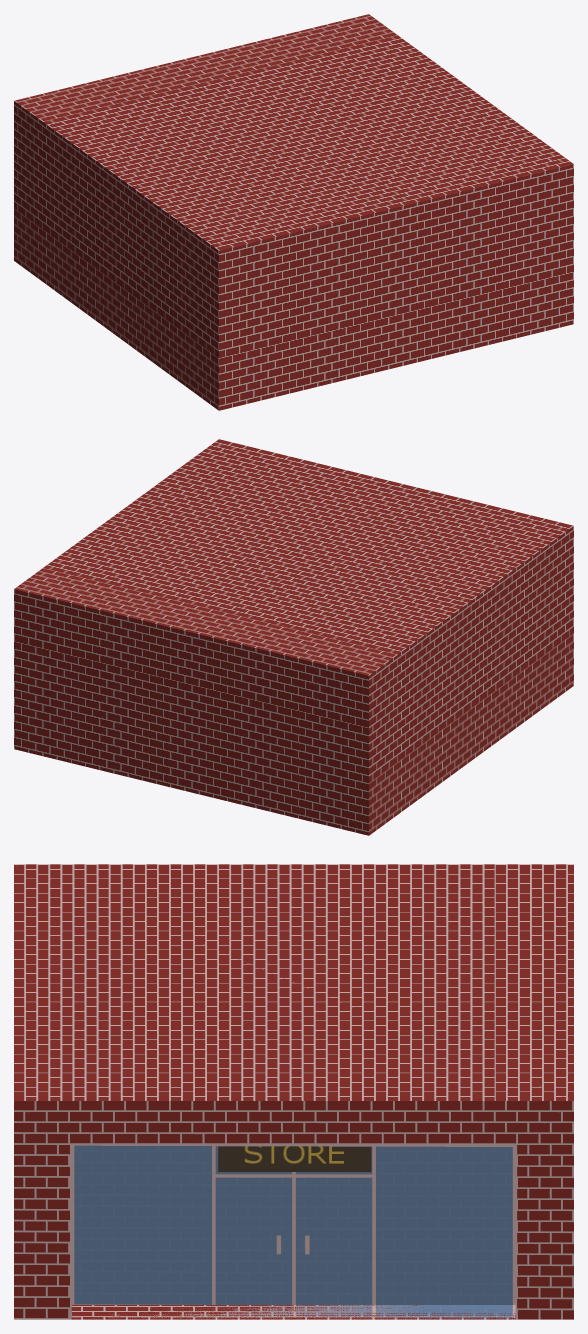
File: Store.fbx
3 views of the same model, one above another, from view 1: azimuth 30°, elevation 25°; view 2: azimuth 150°, elevation 25°; view 3: azimuth 270°, elevation 25° (orthographic). The views are drawn at different scales.
Parts seen in each view (by area): view 1: Cube; view 2: Cube; view 3: Cube.
Boxes of the visible parts, x1,y1,x2,y2 form: Cube: [14, 14, 573, 410]; Cube: [14, 439, 573, 835]; Cube: [14, 864, 573, 1319].
Bounding box in the file's own units: 130 × 56 × 130.
Materials: 1 (1 with a texture image).
